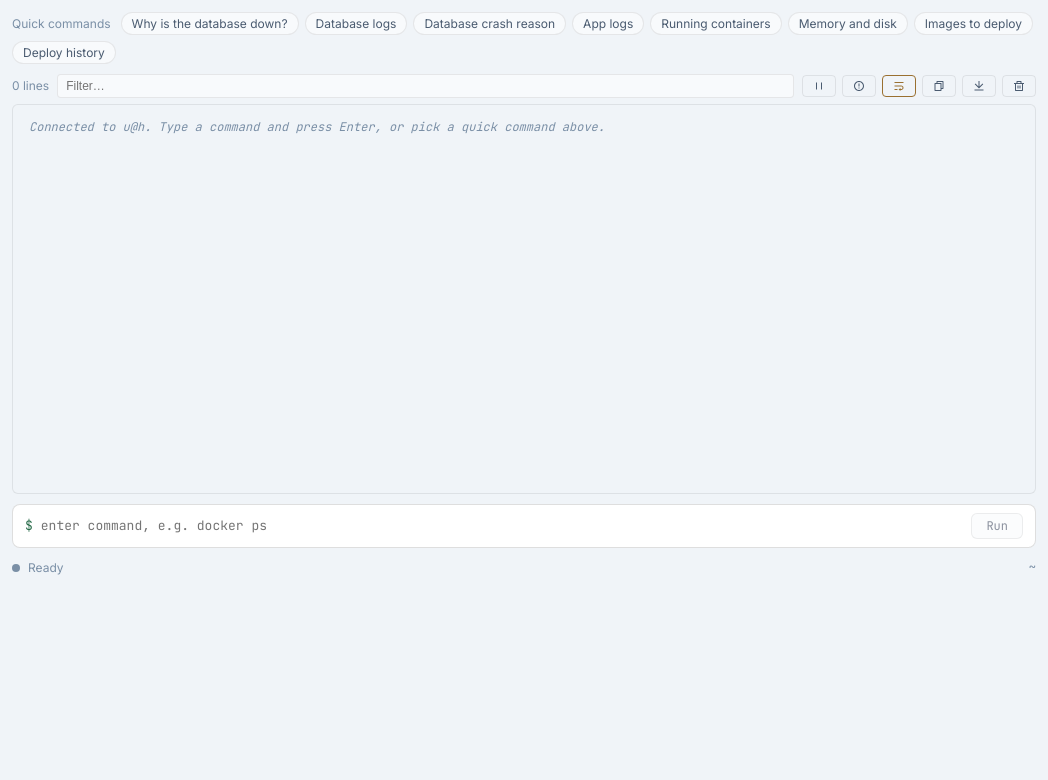
Test: RemoteTerminal › presets can reference the compose folder
The width and height of the screenshot is (1048, 780).
Click the button "Images to deploy" at (973, 24), box [914,12,1033,35]
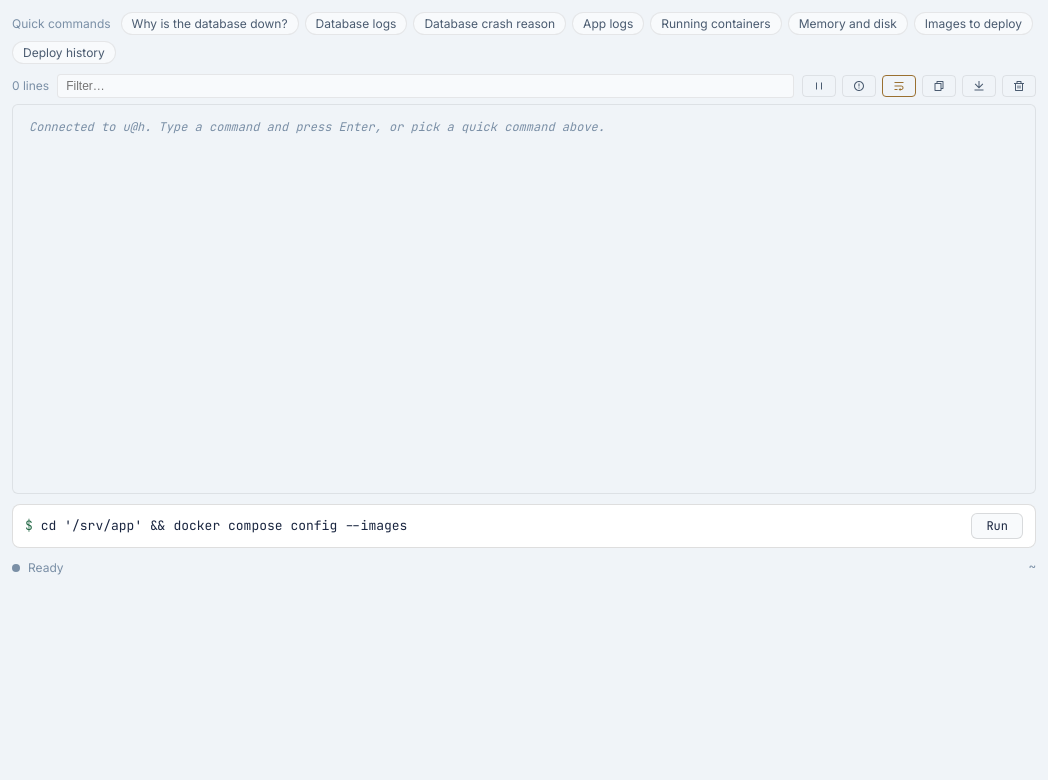
Check: the field named "command" holds "cd '/srv/app' && docker compose config --images", box [41,516,963,536]
